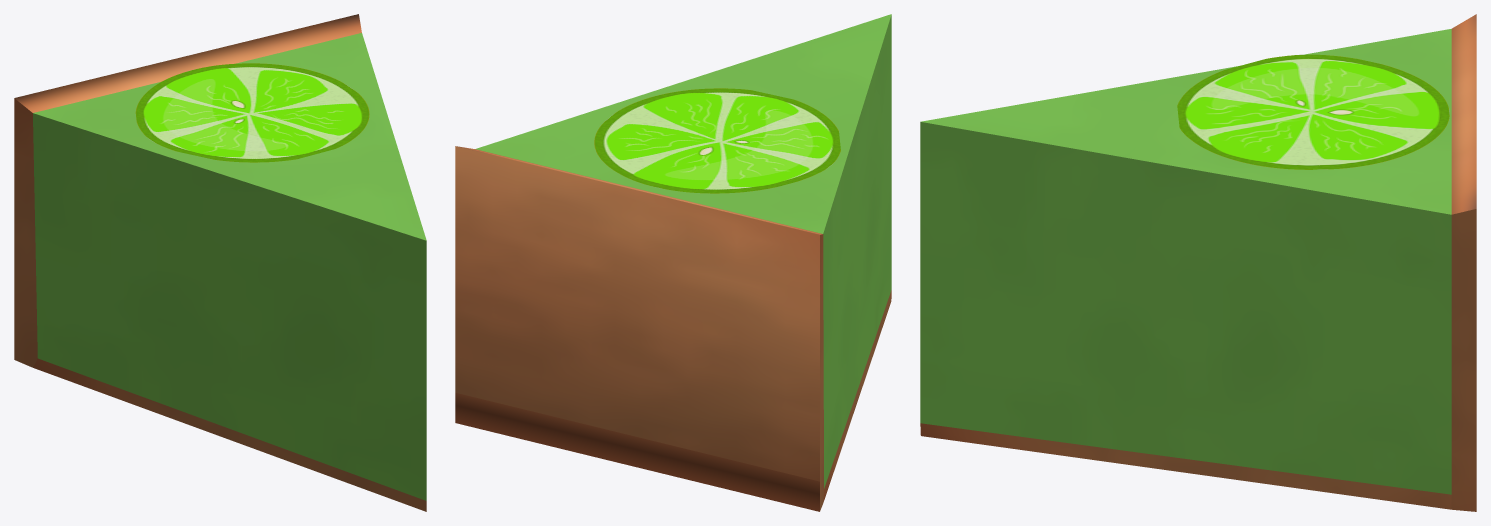
File: Cheesecake_Slice_A_5.FBX
3 views of the same model, side by side, from view 1: azimuth 30°, elevation 25°; view 2: azimuth 150°, elevation 25°; view 3: azimuth 270°, elevation 25° (orthographic). The views are drawn at different scales.
Visible parts, largest first — view 1: Cheesecake_Slice; view 2: Cheesecake_Slice; view 3: Cheesecake_Slice.
Part boxes in pixels (<box>): Cheesecake_Slice: <box>14,14,426,511</box>; Cheesecake_Slice: <box>455,14,891,511</box>; Cheesecake_Slice: <box>920,14,1476,511</box>.
Bounding box in the file's own units: 32.61 × 25.35 × 39.37.
